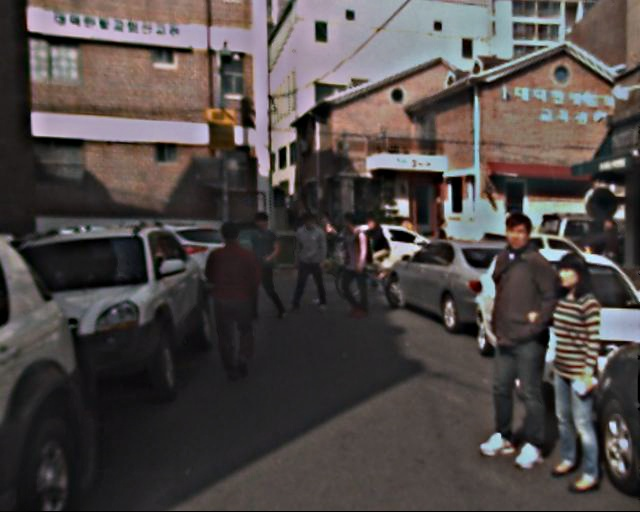person: (466, 214, 569, 466), (523, 254, 621, 492), (201, 223, 266, 381), (239, 211, 284, 320), (330, 212, 373, 317), (288, 215, 329, 314), (358, 214, 390, 293), (593, 218, 624, 293), (317, 205, 340, 262)
